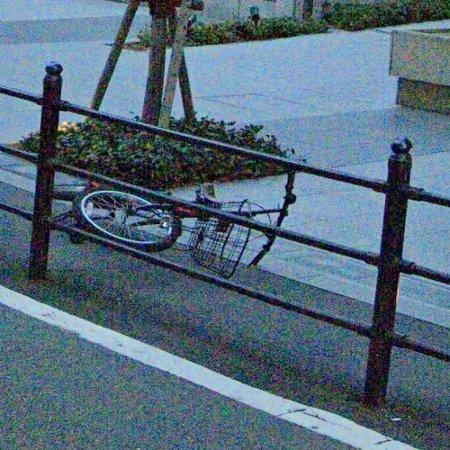bicycles: (74, 190, 252, 278), (196, 170, 297, 226)
